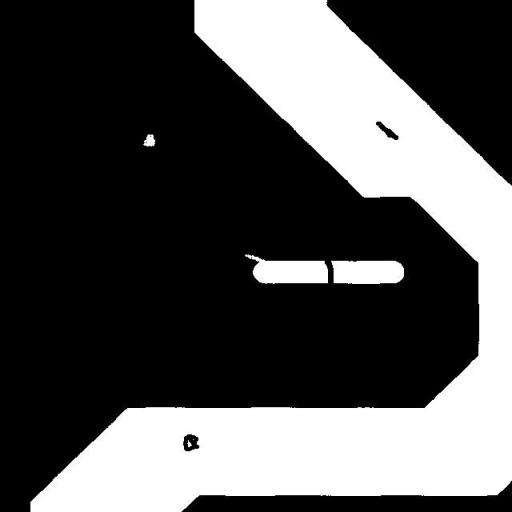copper: (368, 114, 406, 147), (176, 426, 206, 458)
mousebite: (236, 246, 274, 270)
pin-hole: (136, 126, 162, 154)
short: (317, 250, 341, 298)
